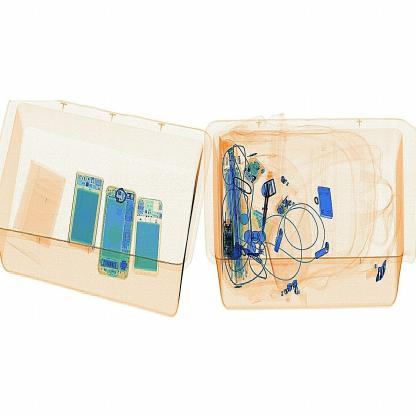gun: (254, 163, 282, 243)
